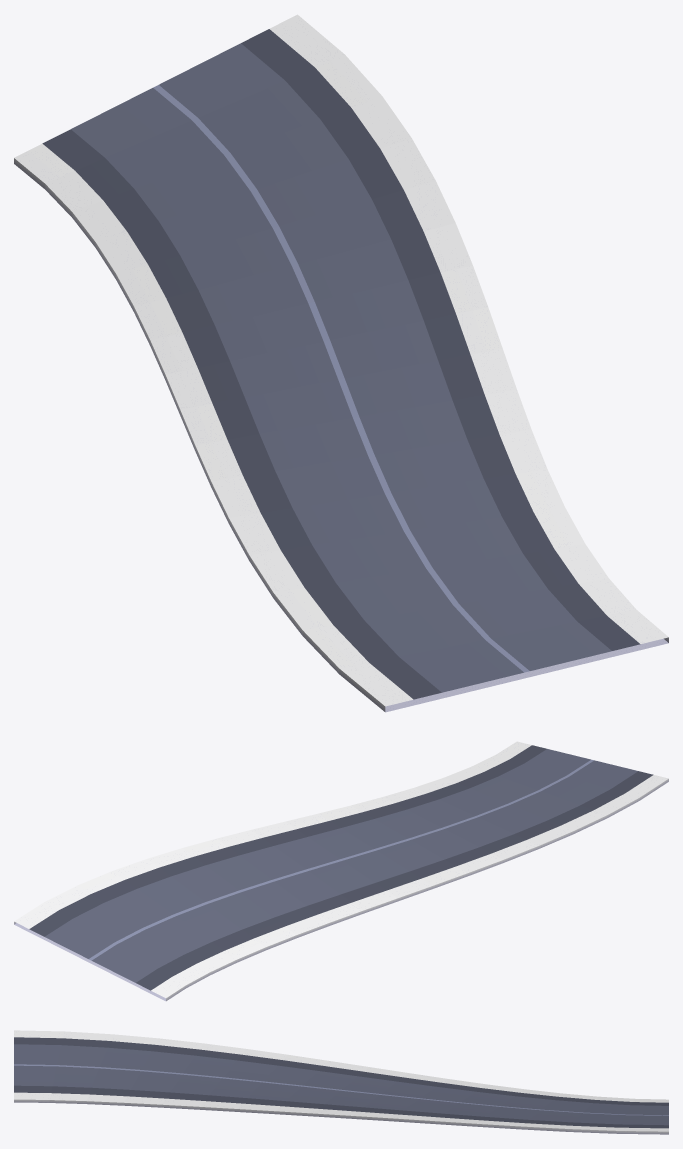
File: road-Chicane-Flat-HalfBankedLeft-Even-Right1-Size4.glb
The picture shows the model from 3 angles, top to bottom: view 1: azimuth 30°, elevation 25°; view 2: azimuth 150°, elevation 25°; view 3: azimuth 270°, elevation 25°; orthographic projection. The views are drawn at different scales.
Parts seen in each view (by area): view 1: road-Chicane-Flat-HalfBankedLeft-Even-Right1-Size4; view 2: road-Chicane-Flat-HalfBankedLeft-Even-Right1-Size4; view 3: road-Chicane-Flat-HalfBankedLeft-Even-Right1-Size4.
Boxes of the visible parts, x1=… form: road-Chicane-Flat-HalfBankedLeft-Even-Right1-Size4: x1=14, y1=14, x2=668, y2=712; road-Chicane-Flat-HalfBankedLeft-Even-Right1-Size4: x1=14, y1=741, x2=668, y2=1001; road-Chicane-Flat-HalfBankedLeft-Even-Right1-Size4: x1=14, y1=1030, x2=668, y2=1134.
Bounding box in the file's own units: 2 × 0.27 × 4.
Materials: 1 (1 with a texture image).
